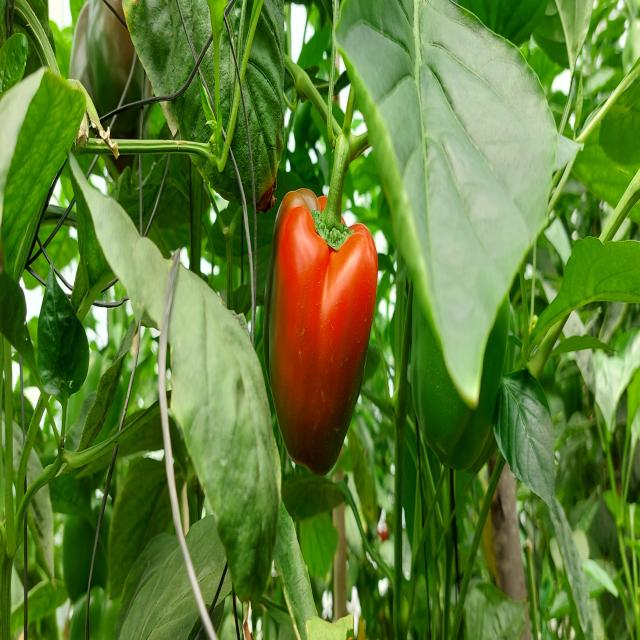Red-Ready-to-Harvest: (262, 154, 378, 478)
